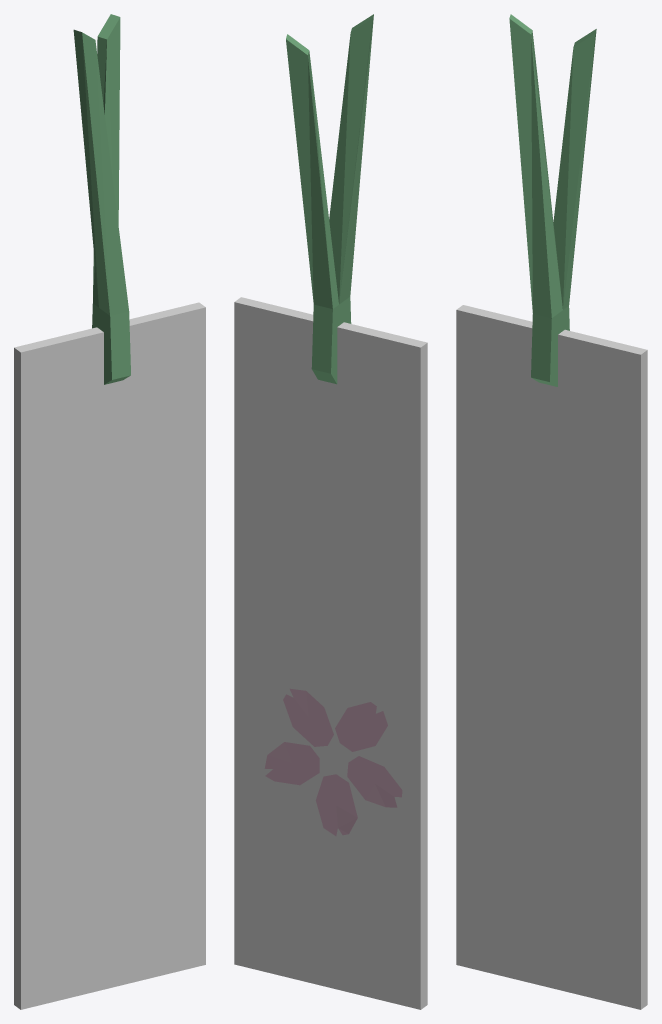
File: bookmark.fbx
The picture shows the model from 3 angles, left to right: view 1: azimuth 30°, elevation 25°; view 2: azimuth 150°, elevation 25°; view 3: azimuth 330°, elevation 25°; orthographic projection.
Parts seen in each view (by area): view 1: polySurface92; view 2: polySurface92; view 3: polySurface92.
Part boxes in pixels (box(x1,y1,x2,y2)): polySurface92: box(14, 14, 205, 1009); polySurface92: box(234, 14, 427, 1009); polySurface92: box(456, 14, 647, 1009).
Size of the model in its own units: 3.67 by 18.3 by 1.15.
